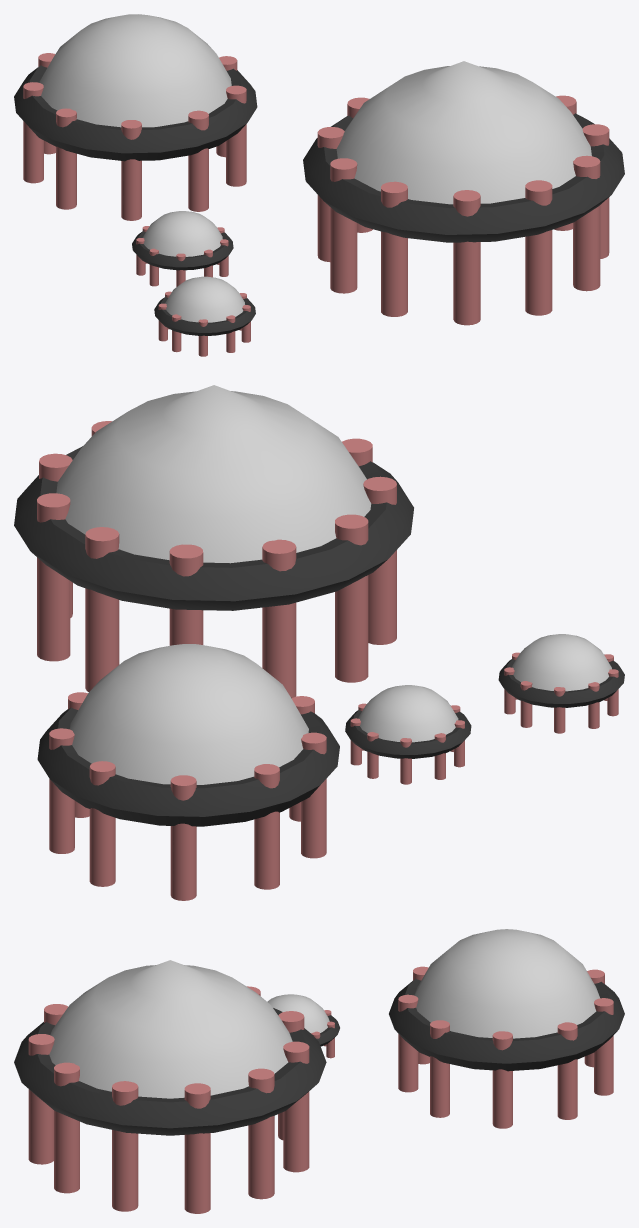
Rendered from rundeStationen_mats.fbx.
3 views of the same model, one above another, from view 1: azimuth 30°, elevation 25°; view 2: azimuth 150°, elevation 25°; view 3: azimuth 270°, elevation 25° (orthographic). The views are drawn at different scales.
Parts seen in each view (by area): view 1: Gebaeude_klein_1 (×3); view 2: Gebaeude_klein_1 (×3); view 3: Gebaeude_klein_1 (×3).
Boxes of the visible parts, x1,y1,x2,y2 form: Gebaeude_klein_1 (×3): (14,14,624,356); Gebaeude_klein_1 (×3): (14,385,624,900); Gebaeude_klein_1 (×3): (14,929,624,1213).
Size of the model in its own units: 1537 by 656 by 1857.
